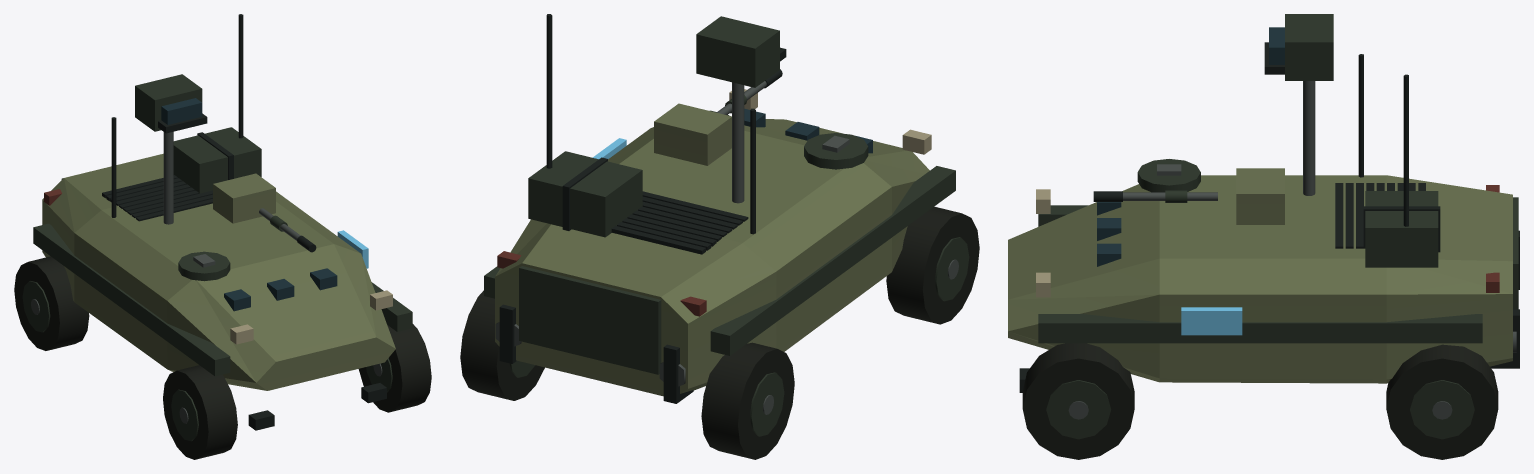
Rendered from reconVehicle-lod.glb.
3 views of the same model, side by side, from view 1: azimuth 30°, elevation 25°; view 2: azimuth 150°, elevation 25°; view 3: azimuth 270°, elevation 25° (orthographic). The views are drawn at different scales.
Visible parts, largest first — view 1: equipment (×3); view 2: equipment (×2); view 3: equipment (×3), marking.
Part boxes in pixels (bbox=[...]): equipment (×3): bbox=[14, 14, 431, 459]; equipment (×2): bbox=[460, 14, 979, 459]; equipment (×3): bbox=[1008, 14, 1519, 459]; marking: bbox=[1181, 307, 1242, 335].
Bounding box in the file's own units: 2.64 × 3.3 × 4.21.
